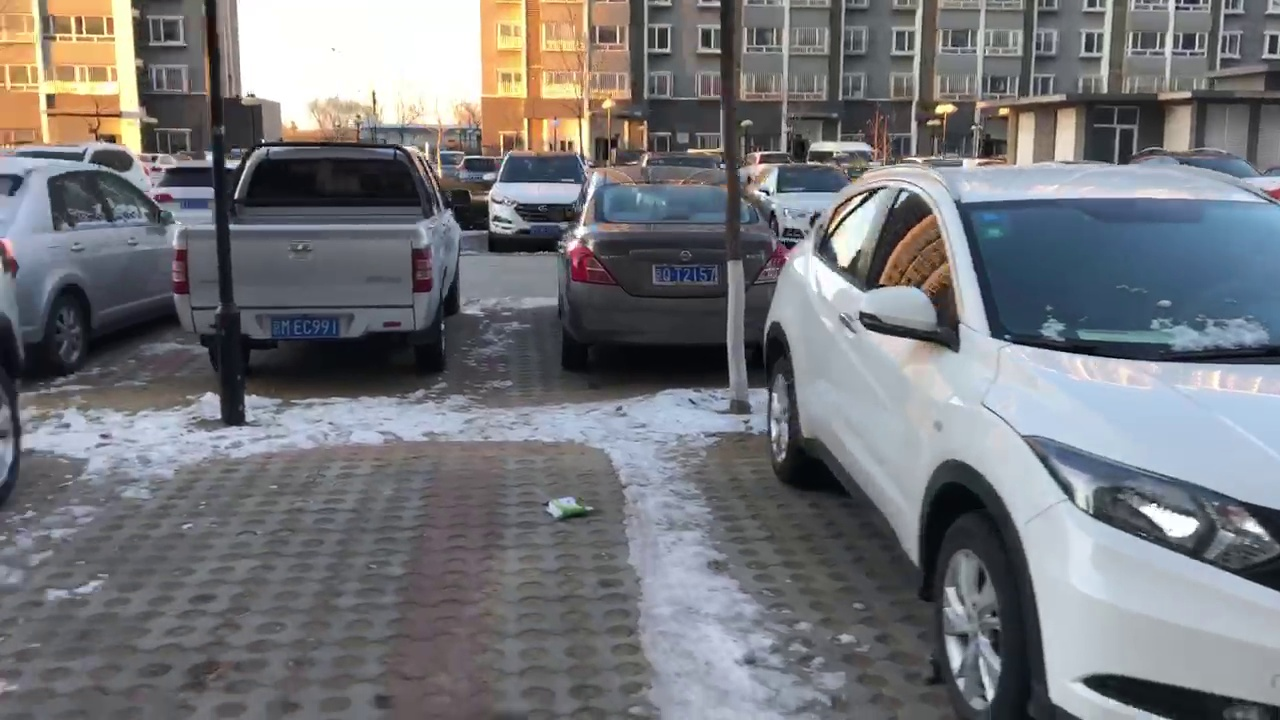plate: (647, 263, 727, 289), (273, 318, 344, 338)
